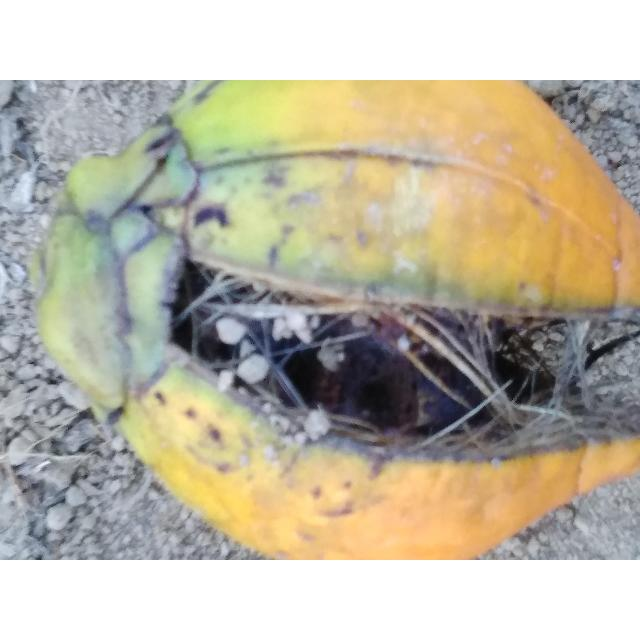damaged: (30, 80, 640, 560)
